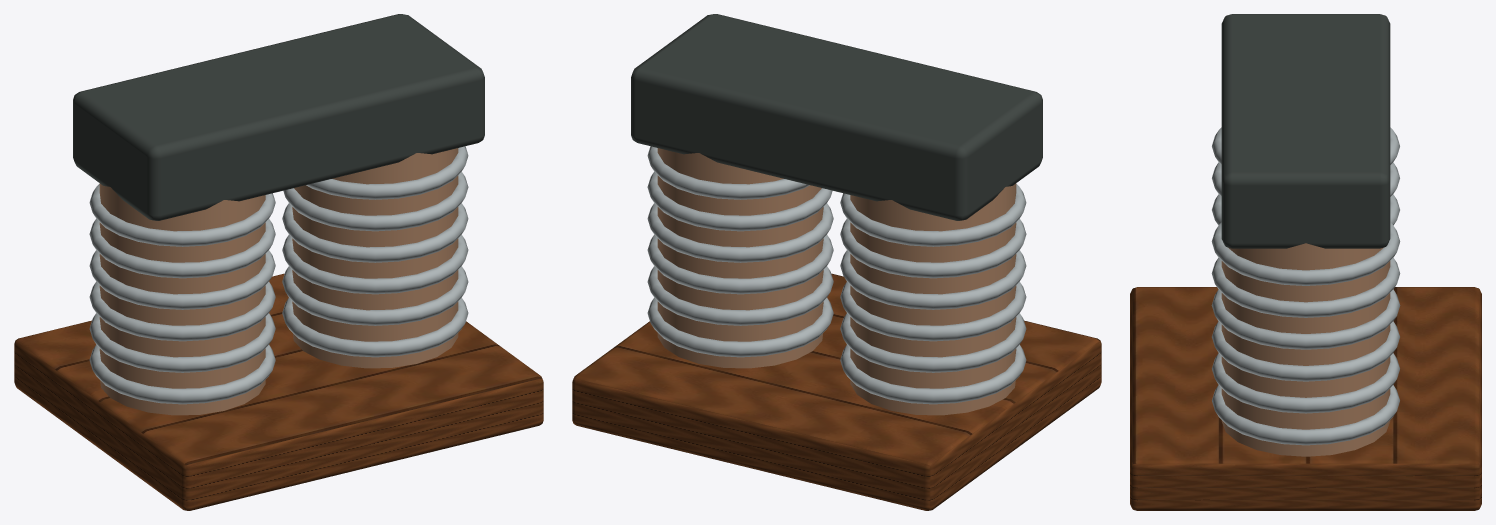
Rendered from salvage-and-repair-workshop-transformer-chassis-e86f4b3e__25485.glb.
3 views of the same model, side by side, from view 1: azimuth 30°, elevation 25°; view 2: azimuth 150°, elevation 25°; view 3: azimuth 270°, elevation 25° (orthographic).
Parts seen in each view (by area): view 1: transformer-chassis; view 2: transformer-chassis; view 3: transformer-chassis.
Part boxes in pixels (bbox=[...]): transformer-chassis: bbox=[14, 14, 543, 510]; transformer-chassis: bbox=[572, 14, 1101, 510]; transformer-chassis: bbox=[1130, 14, 1481, 510].
Size of the model in its own units: 0.3 by 0.26 by 0.25.
Materials: 4 (1 with a texture image).
